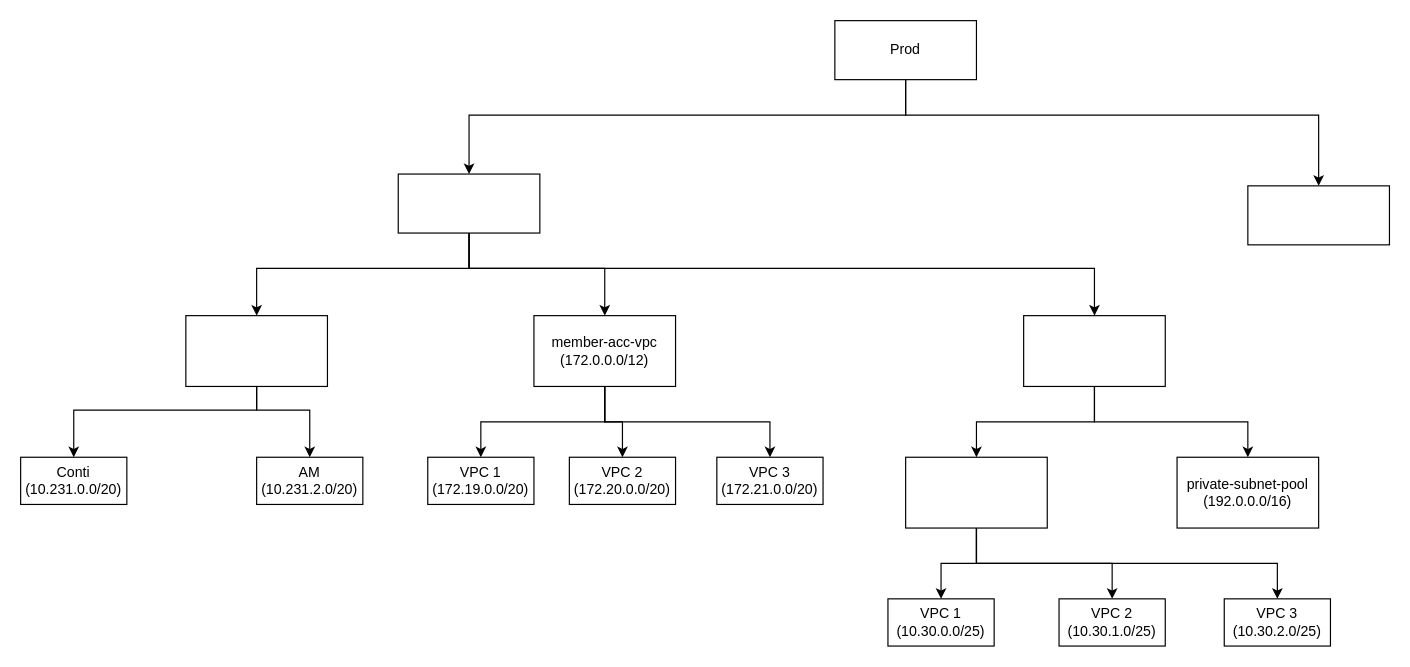
This 1410x667 diagram has some shape labels left out. The centre of each missing label's shape, as x and y in pixels:
eu-west-1: (x=468, y=203)
on-prem: (x=1093, y=350)
tenant-shared-vpc (10.231.0.0/16): (x=256, y=350)
tgw-cidr-pool (10.30.0.0/16): (x=975, y=492)
us-east-1: (x=1318, y=215)
